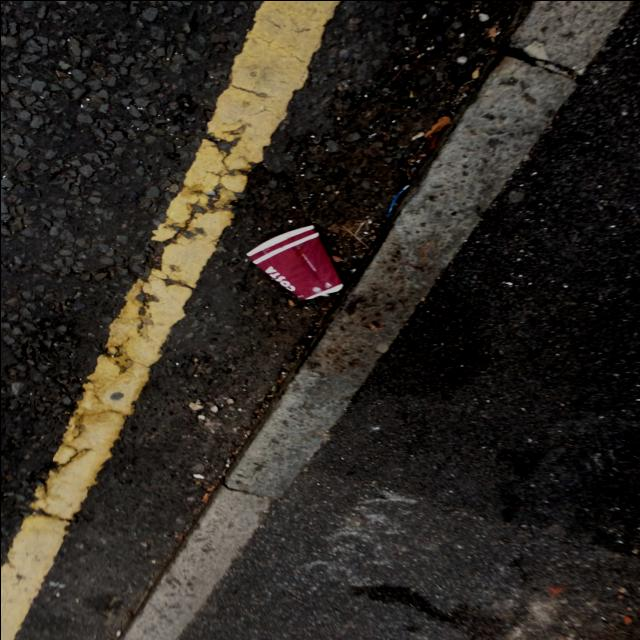Paper cup: (245, 225, 343, 299)
